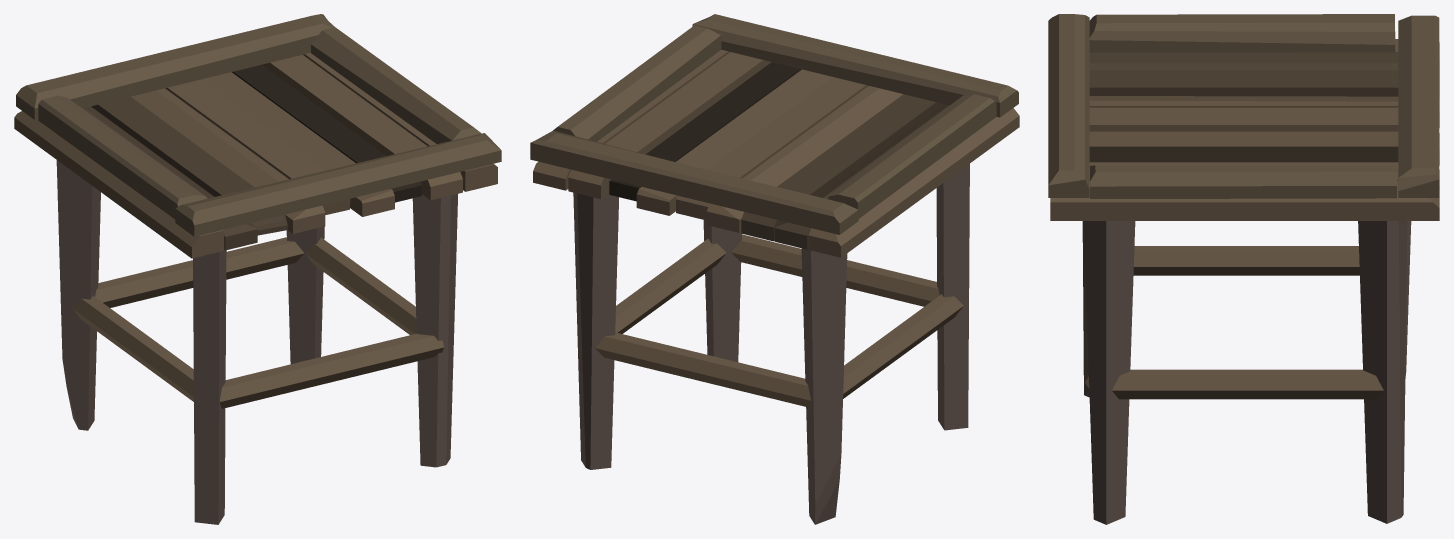
The model's file is Table_2_Black.fbx.
3 views of the same model, side by side, from view 1: azimuth 30°, elevation 25°; view 2: azimuth 150°, elevation 25°; view 3: azimuth 270°, elevation 25° (orthographic). The views are drawn at different scales.
Visible parts, largest first — view 1: Cube.205, Cube.206, Cube.194, Cube.191, Cube.192, Cube.208, Cube.207, Cylinder.066, Cube.203, Cube.198, Cube.195, Cube.199 (+9 smaller); view 2: Cube.206, Cube.193, Cube.191, Cube.205, Cube.192, Cube.208, Cube.207, Cube.203, Cylinder.067, Cube.198, Cube.195, Cube.199 (+9 smaller); view 3: Cube.193, Cube.194, Cube.208, Cube.207, Cube.204, Cube.198, Cylinder.069, Cube.196, Cube.205, Cube.206, Cylinder.068, Cube.201 (+5 smaller).
Boxes of the visible parts, x1,y1,x2,y2 form: Cube.205: [175, 133, 501, 236]; Cube.206: [16, 14, 334, 119]; Cube.194: [412, 194, 457, 467]; Cube.191: [56, 160, 100, 430]; Cube.192: [193, 250, 226, 524]; Cube.208: [38, 95, 207, 219]; Cube.207: [311, 27, 481, 143]; Cylinder.066: [220, 333, 444, 408]; Cube.203: [262, 55, 462, 200]; Cube.198: [91, 96, 287, 235]; Cube.195: [14, 111, 224, 258]; Cube.199: [131, 88, 325, 233]; Cube.206: [530, 130, 858, 234]; Cube.193: [573, 192, 618, 469]; Cube.191: [801, 248, 847, 524]; Cube.205: [692, 14, 1018, 117]; Cube.192: [936, 164, 969, 430]; Cube.208: [828, 93, 996, 218]; Cube.207: [553, 25, 721, 141]; Cube.203: [568, 52, 771, 199]; Cylinder.067: [595, 332, 810, 407]; Cube.198: [741, 94, 942, 241]; Cube.195: [808, 108, 1019, 257]; Cube.199: [706, 86, 903, 232]; Cube.193: [1358, 221, 1407, 523]; Cube.194: [1083, 221, 1135, 524]; Cube.208: [1089, 14, 1395, 52]; Cube.207: [1090, 164, 1396, 198]; Cube.204: [1050, 181, 1439, 220]; Cube.198: [1089, 70, 1439, 96]; Cylinder.069: [1112, 369, 1383, 399]; Cube.196: [1089, 107, 1398, 131]; Cube.205: [1048, 14, 1089, 197]; Cube.206: [1398, 15, 1439, 197]; Cylinder.068: [1133, 246, 1359, 275]; Cube.201: [1089, 52, 1439, 76].
Size of the model in its own units: 378 by 383 by 375.
